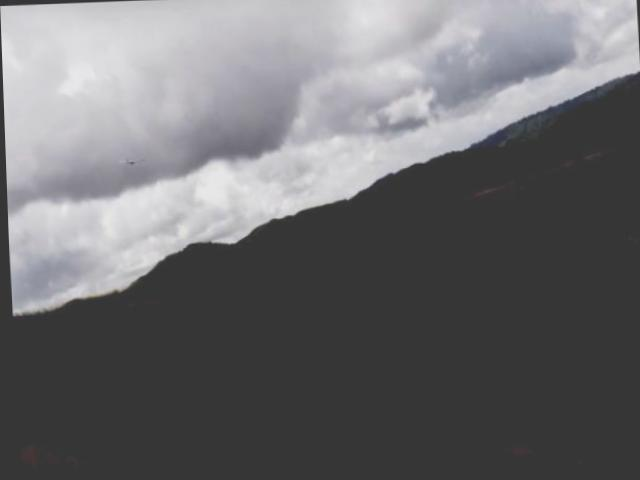iha: (113, 149, 146, 169)
